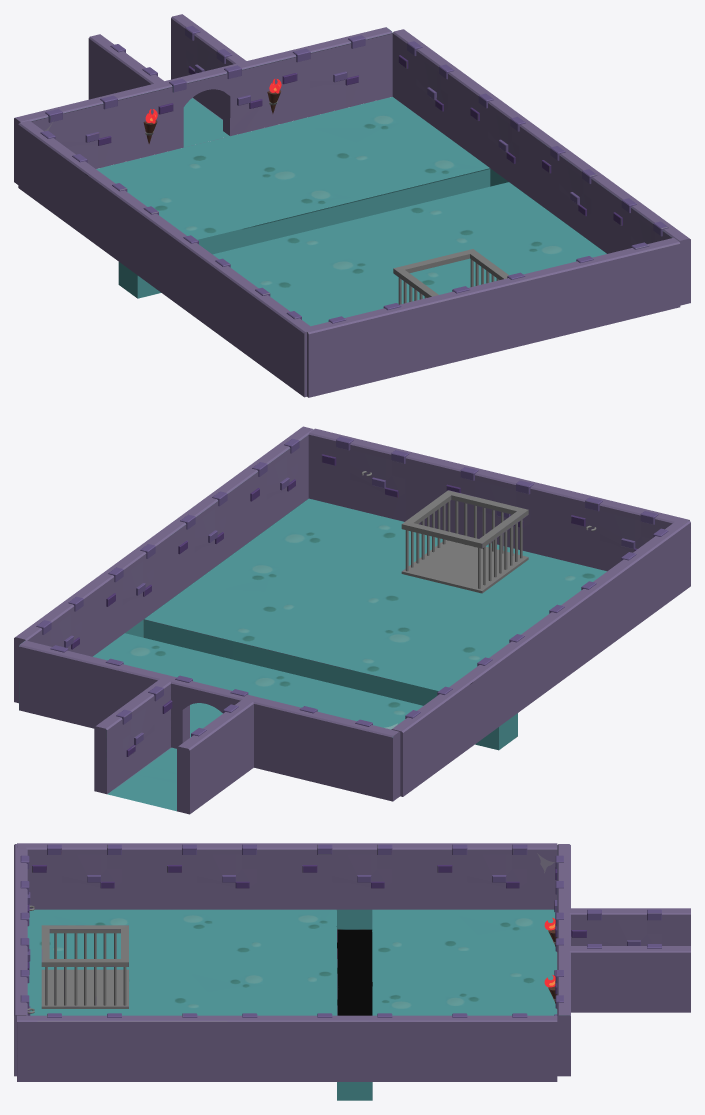
The model's file is Opening Room Bake.glb.
3 views of the same model, one above another, from view 1: azimuth 30°, elevation 25°; view 2: azimuth 150°, elevation 25°; view 3: azimuth 270°, elevation 25° (orthographic). The views are drawn at different scales.
Parts seen in each view (by area): view 1: Bake; view 2: Bake; view 3: Bake.
Boxes of the visible parts, bbox=[...] form: Bake: bbox=[14, 14, 690, 397]; Bake: bbox=[14, 426, 690, 814]; Bake: bbox=[14, 843, 690, 1100].
Size of the model in its own units: 31.21 by 7.1 by 50.12.
Materials: 4 (1 with a texture image).
